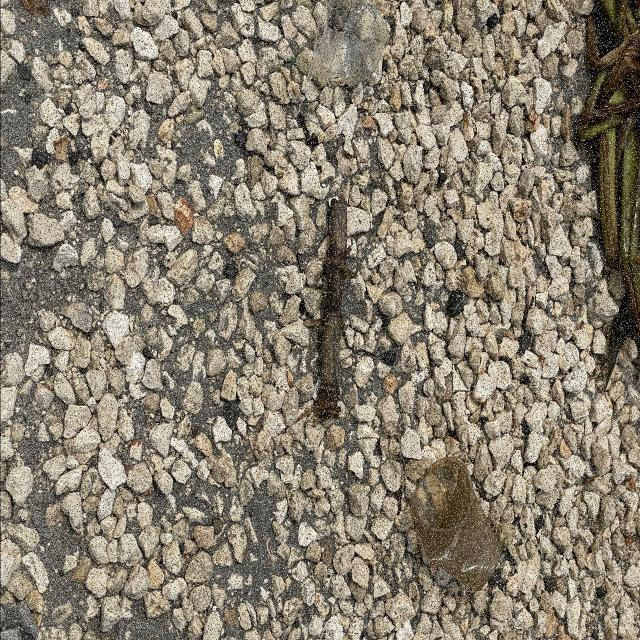plastic_waste: (408, 460, 504, 595)
